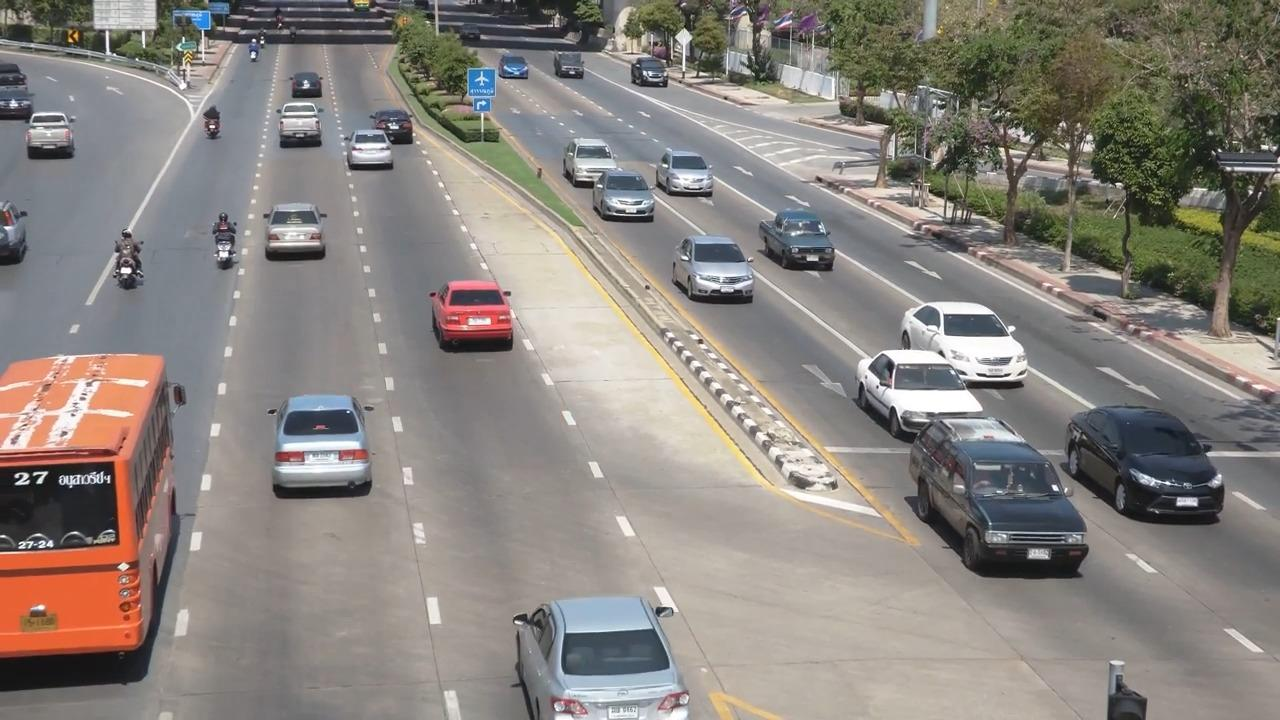CAR: (903, 412, 1098, 588), (490, 579, 718, 720), (1052, 385, 1244, 537), (252, 383, 394, 524), (899, 290, 1044, 397), (848, 338, 997, 440), (417, 259, 539, 379), (661, 226, 764, 316), (254, 187, 348, 281), (748, 199, 843, 277), (640, 142, 724, 210), (16, 105, 84, 183), (265, 99, 332, 169), (587, 165, 656, 231), (551, 122, 620, 182), (337, 127, 402, 186), (0, 57, 55, 114), (366, 105, 422, 158), (618, 53, 670, 95), (282, 67, 334, 106), (539, 45, 589, 85)
HGV_BUS: (0, 339, 198, 720)
MOTOR: (81, 217, 151, 335), (186, 203, 254, 297), (186, 95, 233, 146)
